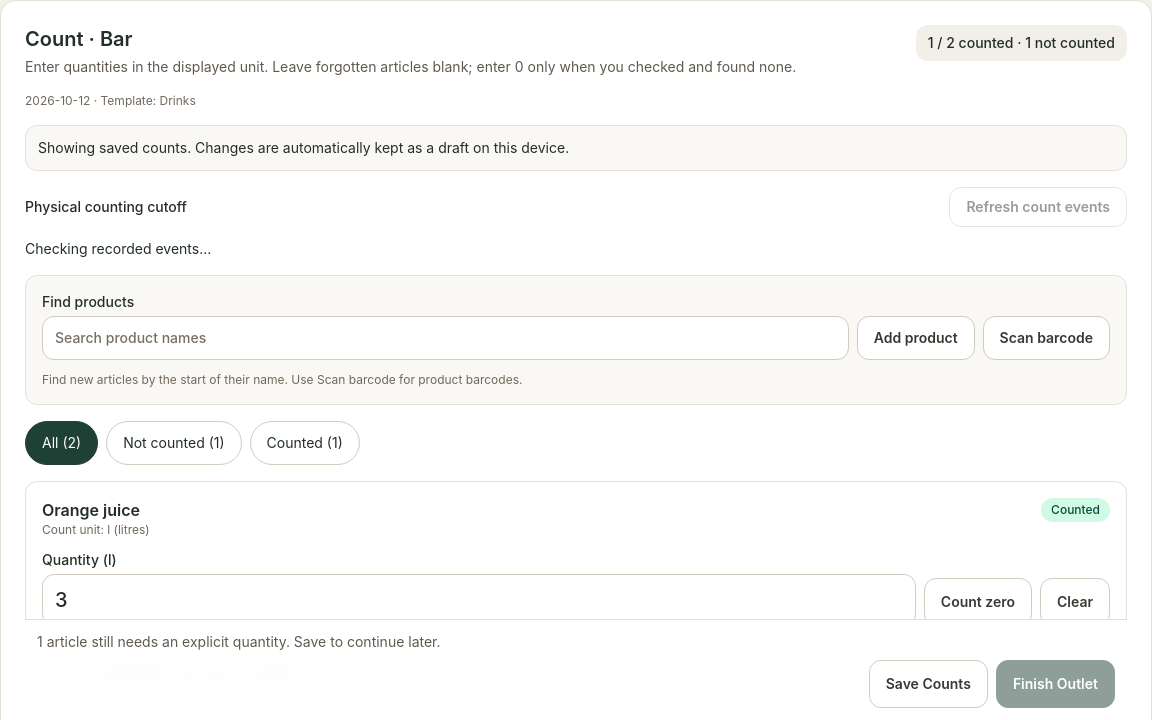
Test: scans an already included article without duplicating it or changing its quantity
Click the button "Scan barcode" at (1046, 338), box 983,316 -> 1110,360
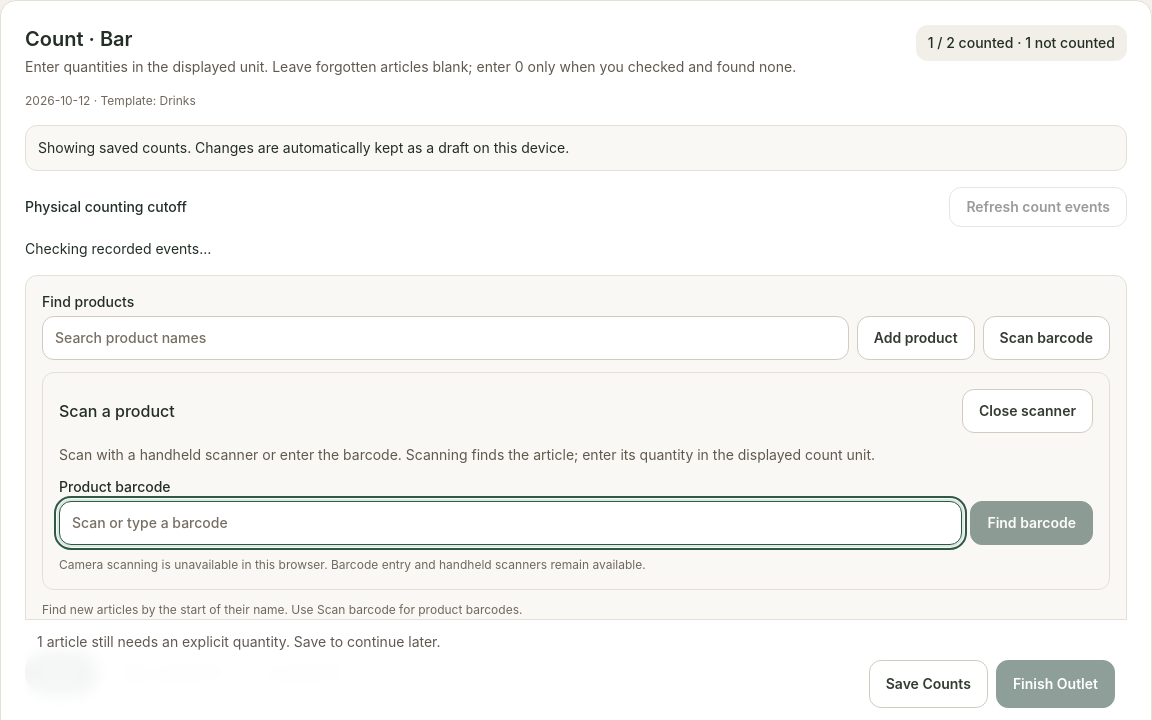
Type "000123" into the field labelled "Product barcode" at (511, 523), box 59,501 -> 962,545
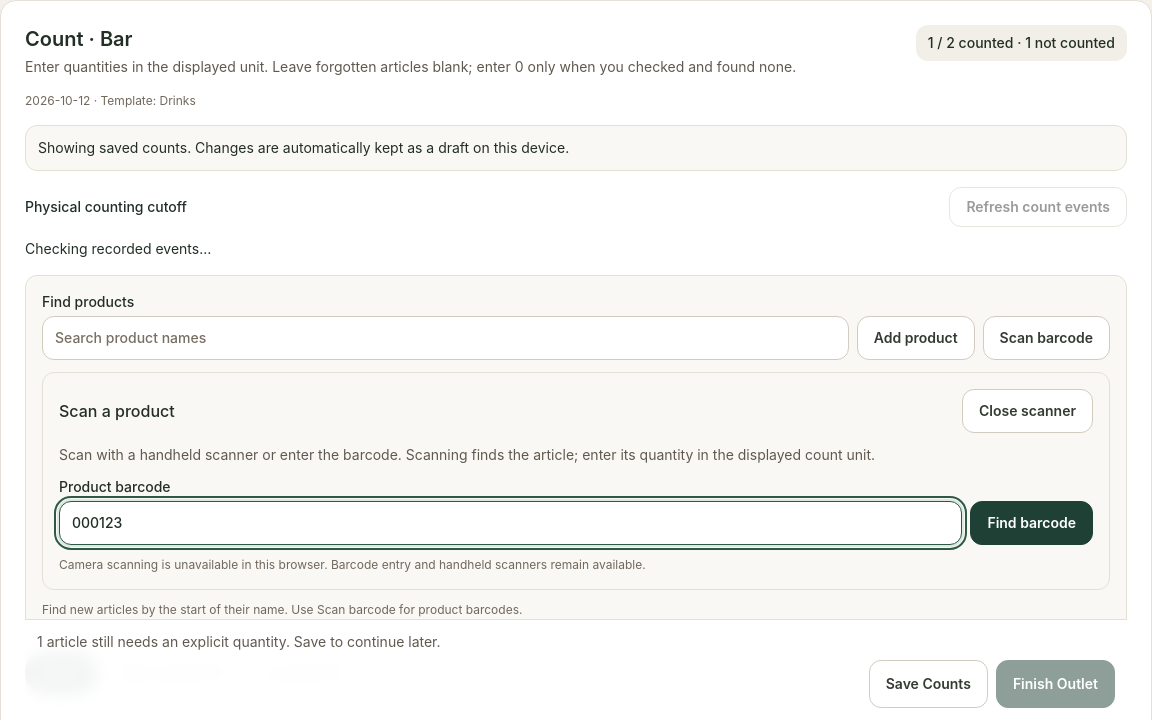
Click the button "Find barcode" at (1032, 523), box 970,501 -> 1093,545
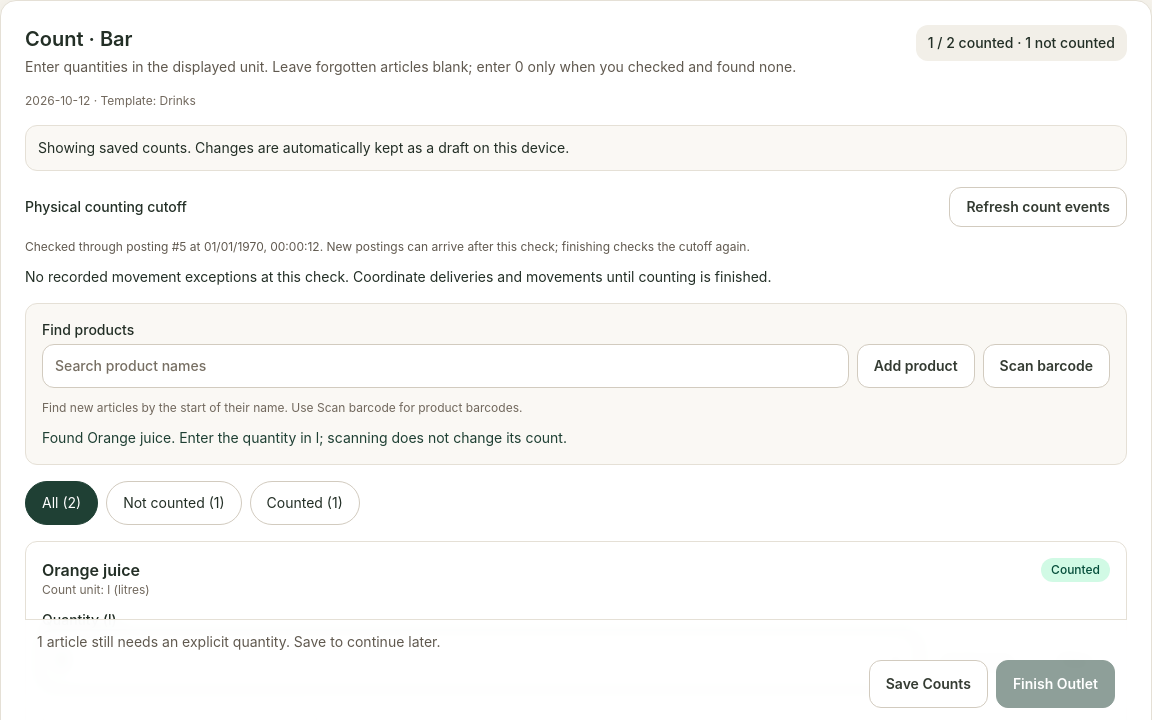
Expected: the number of number fields named "Count Orange juice" is 1, 42,634 -> 916,686
Expected: the text "Found Orange juice" is shown, 42,429 -> 567,446
